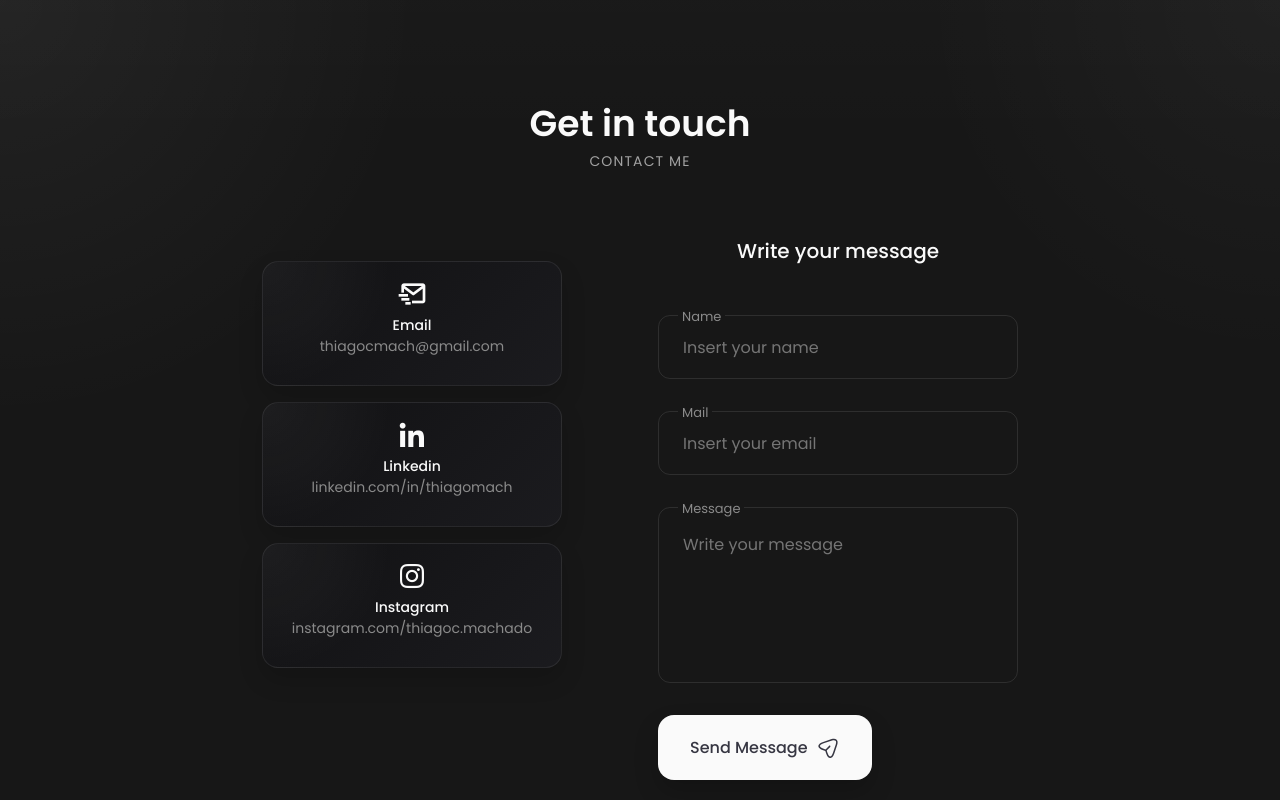
Contact › submits the form and shows a success message
The image size is (1280, 800).
Type "Thiago" into the field labelled "Name" at coordinates (838, 347), box [658,315,1018,379]
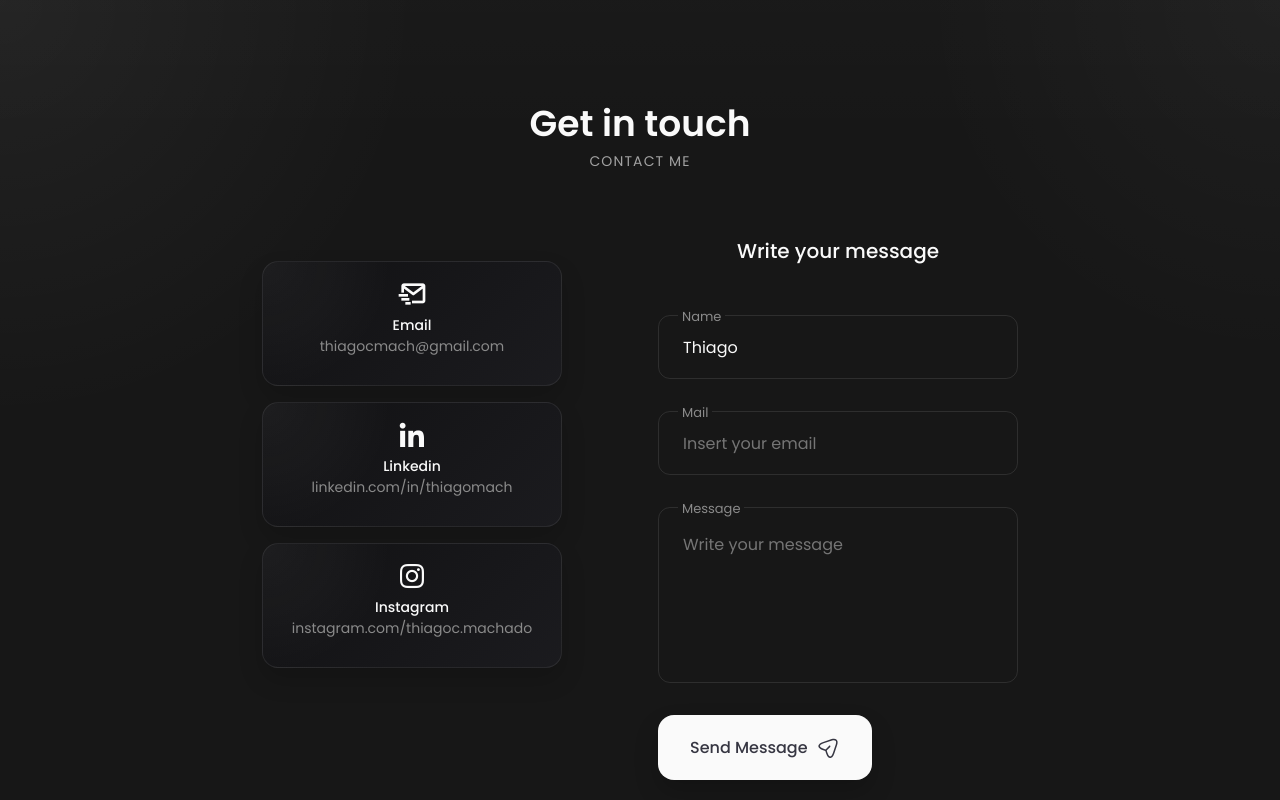
Type "thiago@example.com" into the field labelled "Mail" at coordinates (838, 443), box [658,411,1018,475]
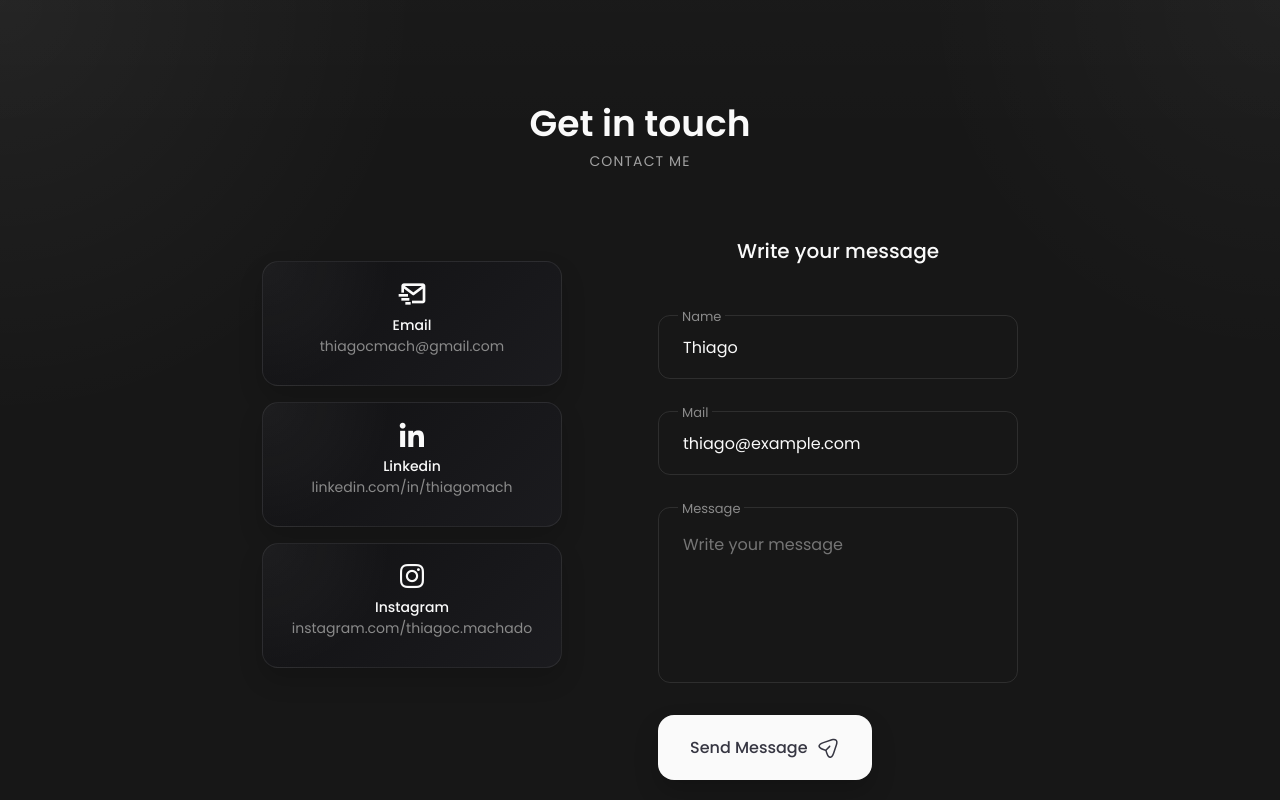
Type "Hello there" into the text box labelled "Message" at coordinates (838, 595), box [658,507,1018,683]
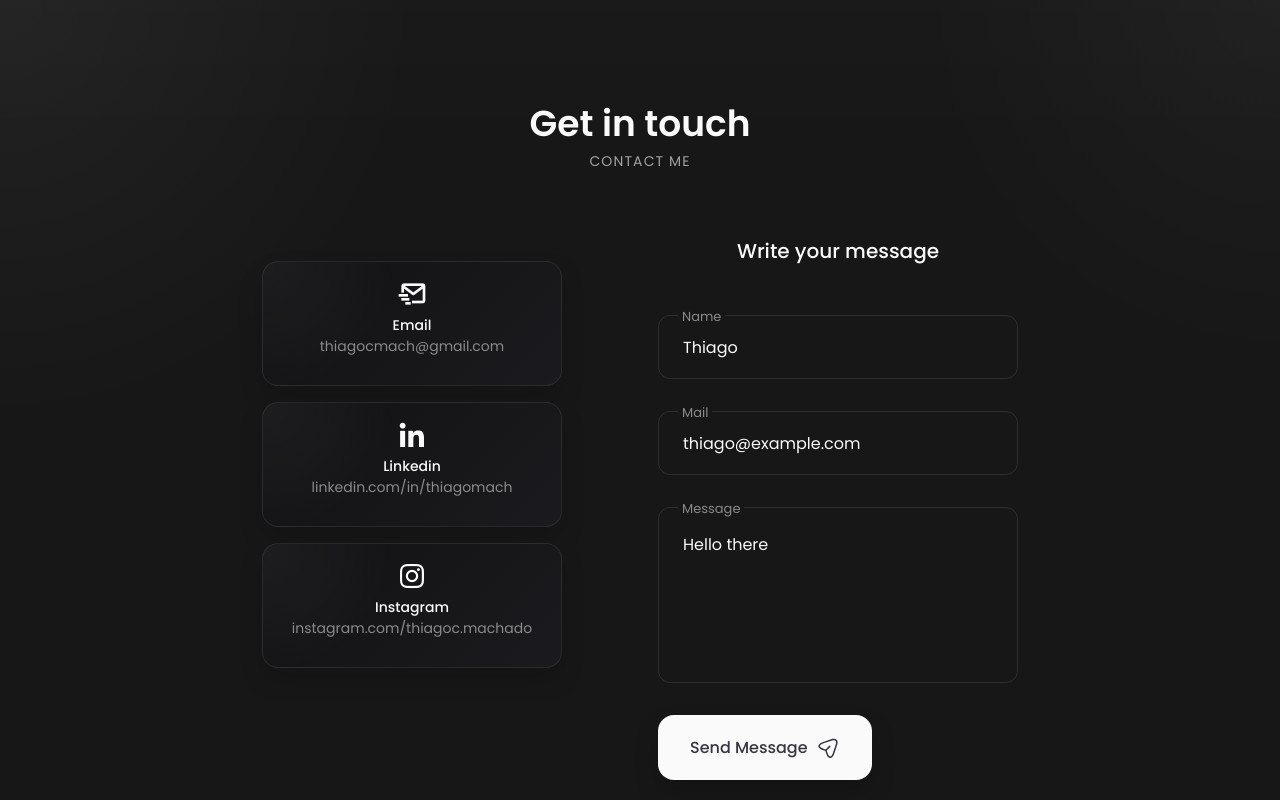
Click the button "Send Message" at coordinates (765, 748), box [658,715,872,780]
(page scrolled)
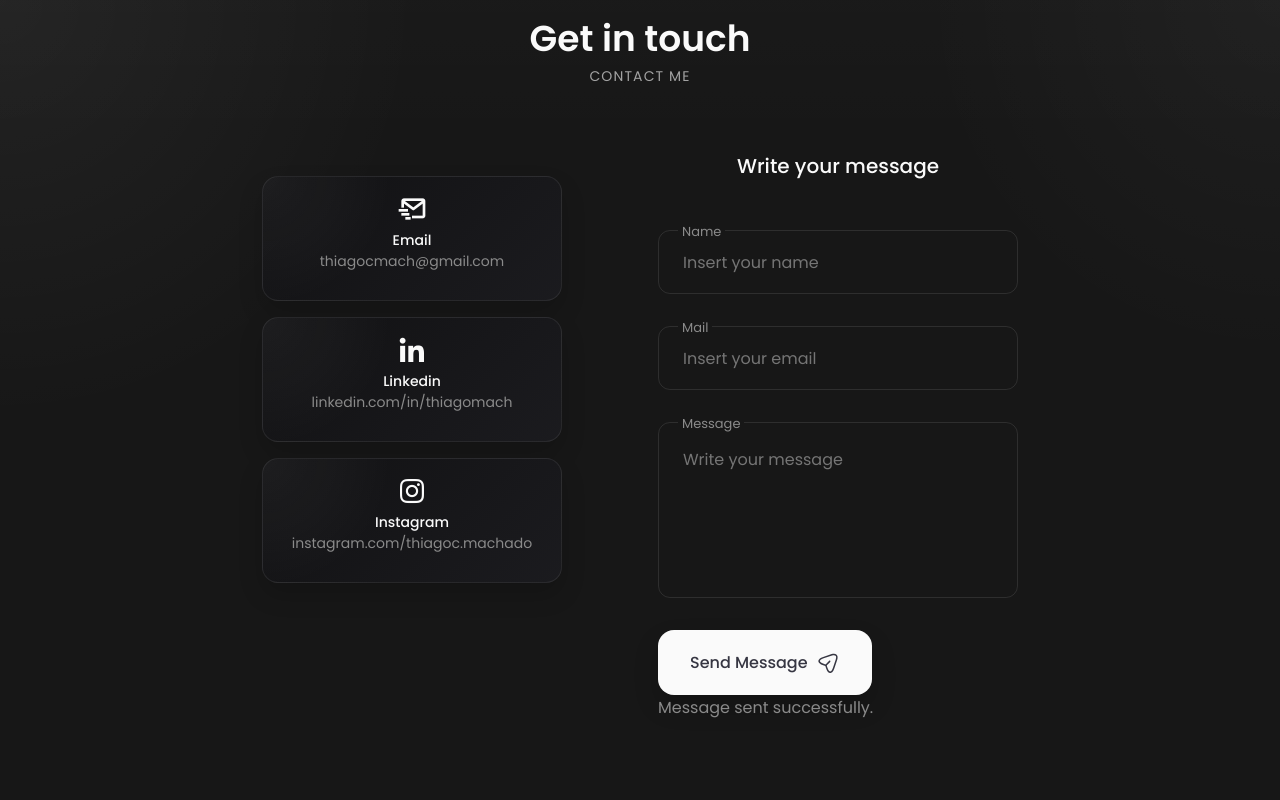
Result: the text "Message sent successfully." is shown at [658,696,873,719]
